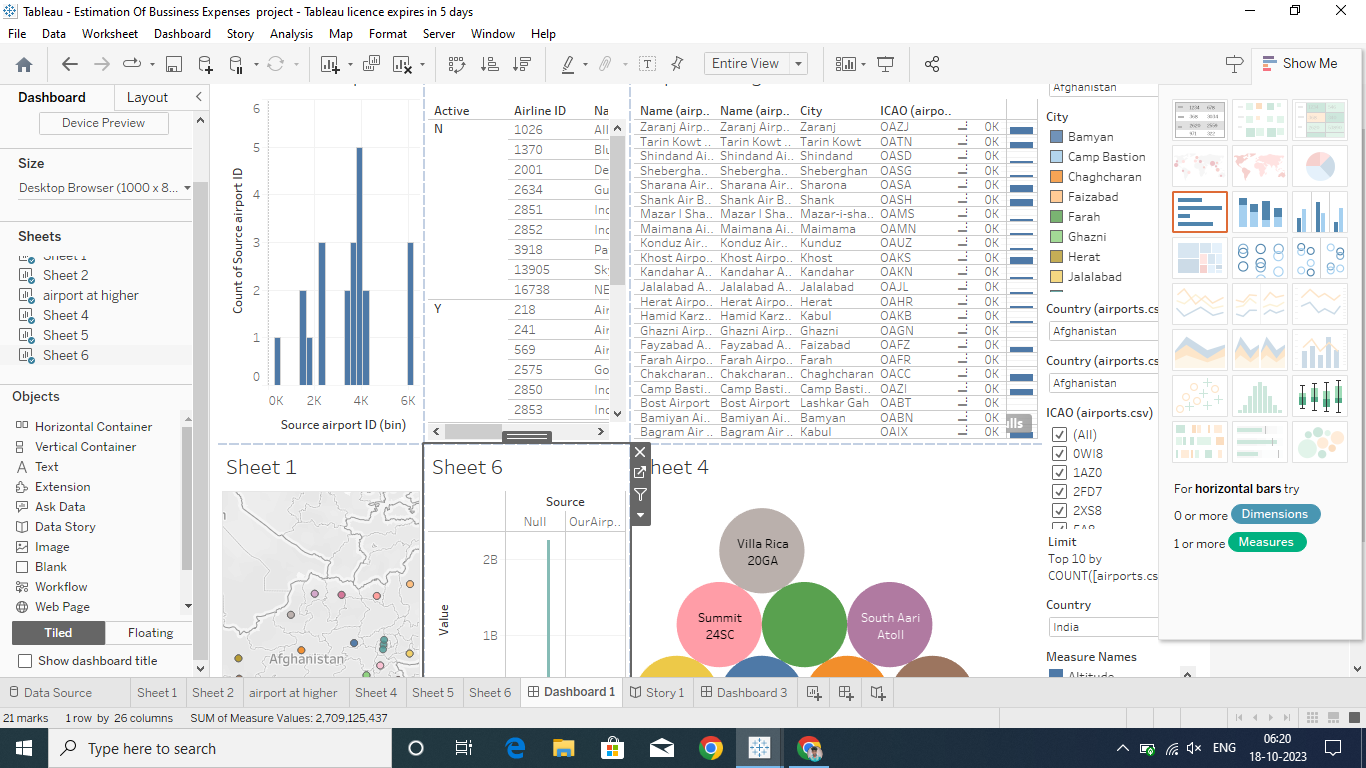

The dashboard page shown, as its layout file describes it:
{"tool":"tableau","page":{"name":"Dashboard 1","canvas":[1000,800],"ordinal":0},"visuals":[{"type":"worksheet","title":"Sheet 2","mark":"Automatic","rows":["Source airport ID"],"cols":["Source airport ID (bin)"],"box":[8,8,206,392]},{"type":"worksheet","title":"Sheet 5","mark":"Automatic","rows":["Active","Airline ID","Name","Callsign","ICAO"],"box":[214,8,206,392]},{"type":"worksheet","title":"airport at higher","mark":"Automatic","rows":["Name (airports.csv)","Name (airports.csv)","City","ICAO (airports.csv)","index"],"box":[420,8,412,392]},{"type":"filter","title":"Sheet 1","param":"[federated.05aeznd1ubwfy71fp5dc30nqv5zj].[none:Country (airports.csv):nk]","box":[832,8,160,52]},{"type":"legend","title":"Sheet 1","param":"[federated.05aeznd1ubwfy71fp5dc30nqv5zj].[none:City:nk]","box":[832,60,160,192]},{"type":"filter","title":"Sheet 2","param":"[federated.05aeznd1ubwfy71fp5dc30nqv5zj].[none:Country (airports.csv):nk]","box":[832,252,160,52]},{"type":"filter","title":"airport at higher","param":"[federated.05aeznd1ubwfy71fp5dc30nqv5zj].[none:Country (airports.csv):nk]","box":[832,304,160,52]},{"type":"filter","title":"Sheet 4","param":"[federated.05aeznd1ubwfy71fp5dc30nqv5zj].[none:ICAO (airports.csv):nk]","box":[832,356,160,192]},{"type":"worksheet","title":"Sheet 1","mark":"Multipolygon","rows":["Latitude"],"cols":["Longitude","Longitude"],"box":[8,400,206,392]},{"type":"worksheet","title":"Sheet 6","mark":"Automatic","cols":["Source"],"box":[214,400,206,392]},{"type":"worksheet","title":"Sheet 4","mark":"Circle","box":[420,400,412,392]},{"type":"filter","title":"Sheet 5","param":"[federated.05aeznd1ubwfy71fp5dc30nqv5zj].[none:Country:nk]","box":[832,548,160,52]},{"type":"legend","title":"Sheet 6","param":"[federated.05aeznd1ubwfy71fp5dc30nqv5zj].[:Measure Names]","box":[832,600,160,192]}]}

Visuals, with their boxes on the page's 1000x800 design canvas (x1, y1, x2, y2). These are canvas units, not pixel positions in the 1366x768 screenshot, which may show the page scaled, cropped or inside an application window:
"Sheet 2" worksheet: 8/8/214/400
"Sheet 5" worksheet: 214/8/420/400
"airport at higher" worksheet: 420/8/832/400
"Sheet 1" filter: 832/8/992/60
"Sheet 1" legend: 832/60/992/252
"Sheet 2" filter: 832/252/992/304
"airport at higher" filter: 832/304/992/356
"Sheet 4" filter: 832/356/992/548
"Sheet 1" worksheet (Multipolygon marks): 8/400/214/792
"Sheet 6" worksheet: 214/400/420/792
"Sheet 4" worksheet (Circle marks): 420/400/832/792
"Sheet 5" filter: 832/548/992/600
"Sheet 6" legend: 832/600/992/792
